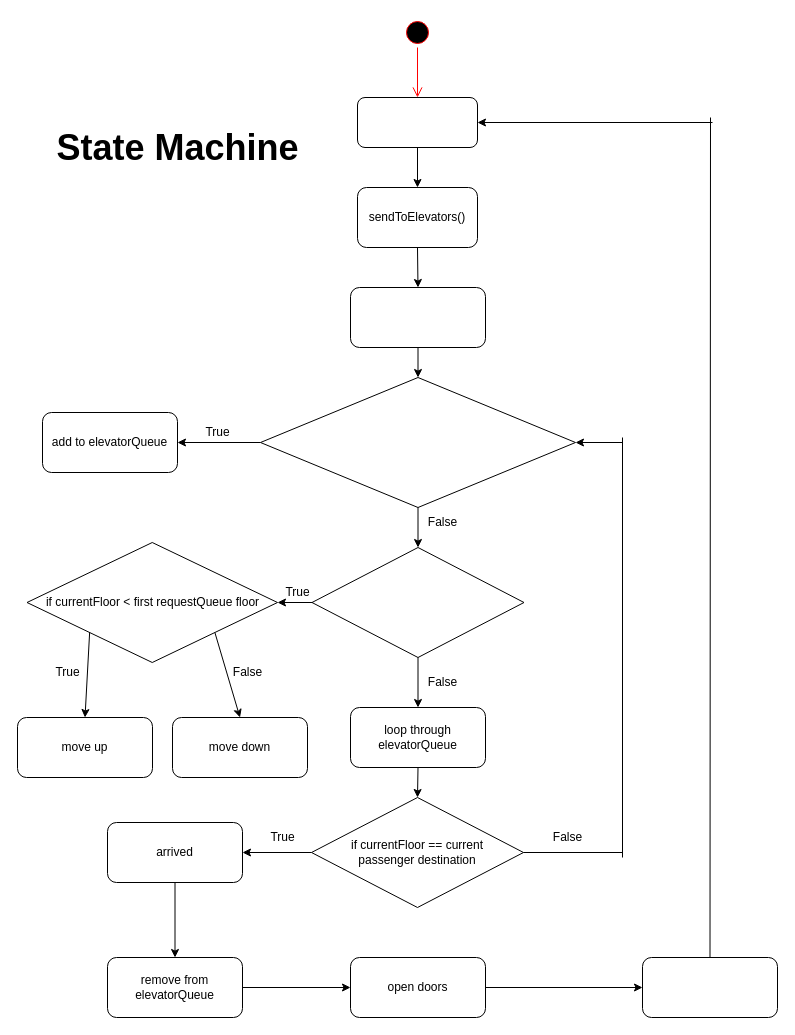
Some shapes in this 795 by 1035 pixel diagram are drawn without their labels. The centre of each missing label's shape, as x and y in pixels:
add to requestQueue add to floorQueues: the point at 418,317
close doors: the point at 710,987
Idle No valid requests: the point at 417,122
if currentFloor != 0 and no requests on current floor: the point at 418,442
if elevatorQueue.size() == 0: the point at 417,602
